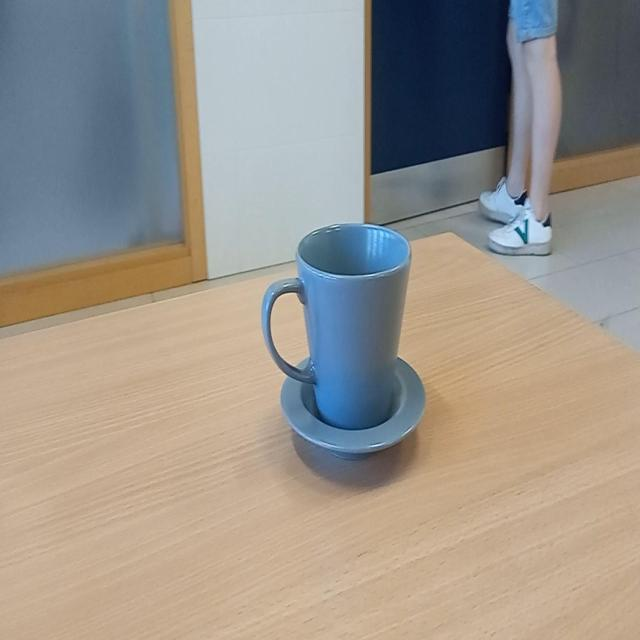cup: (259, 218, 429, 465)
